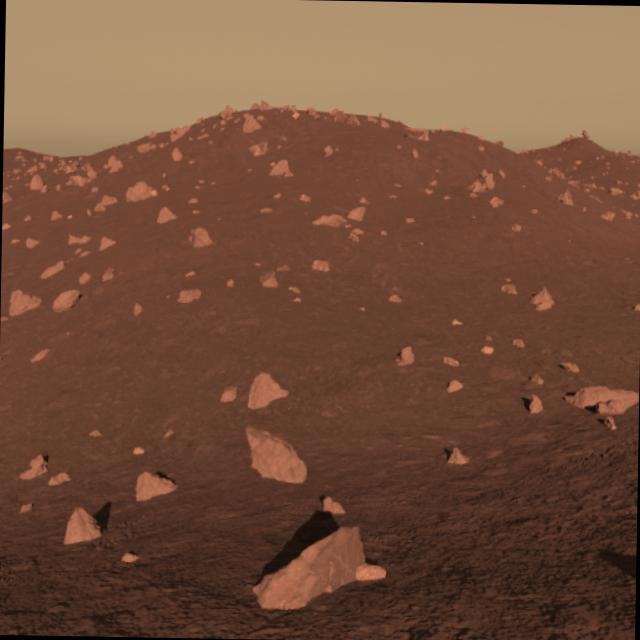rock: (254, 520, 394, 611), (238, 414, 320, 496), (563, 376, 639, 424), (126, 459, 181, 510), (58, 499, 100, 550)
